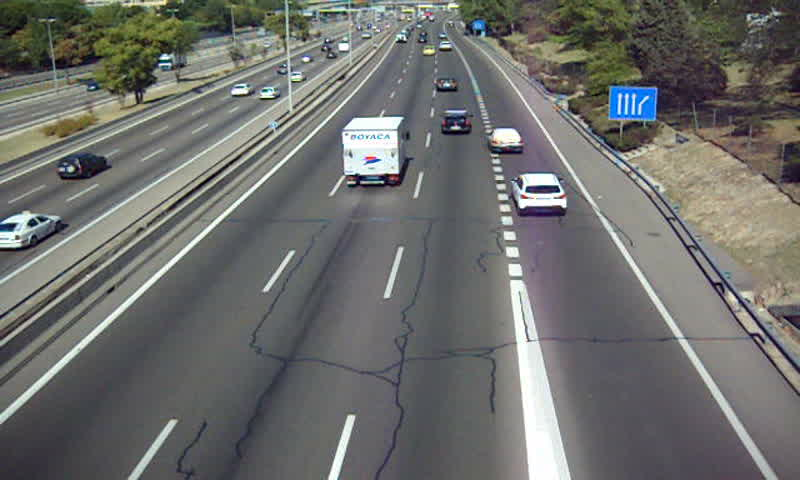car: (511, 172, 569, 215), (486, 127, 523, 153), (440, 111, 474, 134), (436, 76, 458, 92), (421, 44, 436, 56), (438, 39, 453, 50)
small-truck: (341, 117, 408, 187)
